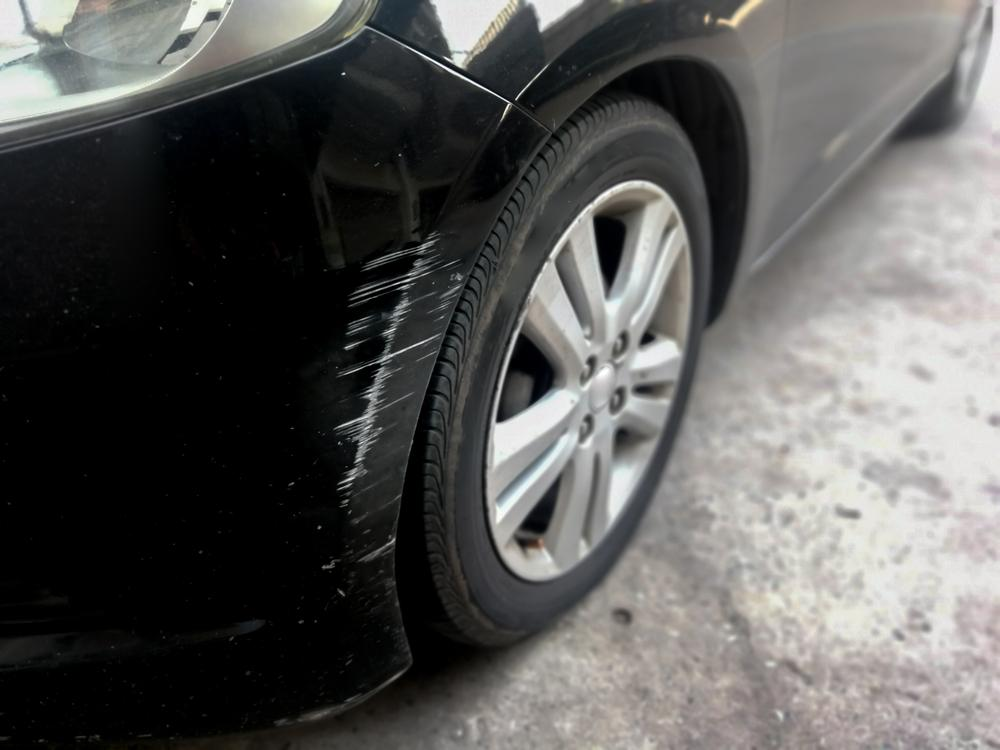scratch: (325, 232, 467, 661)
